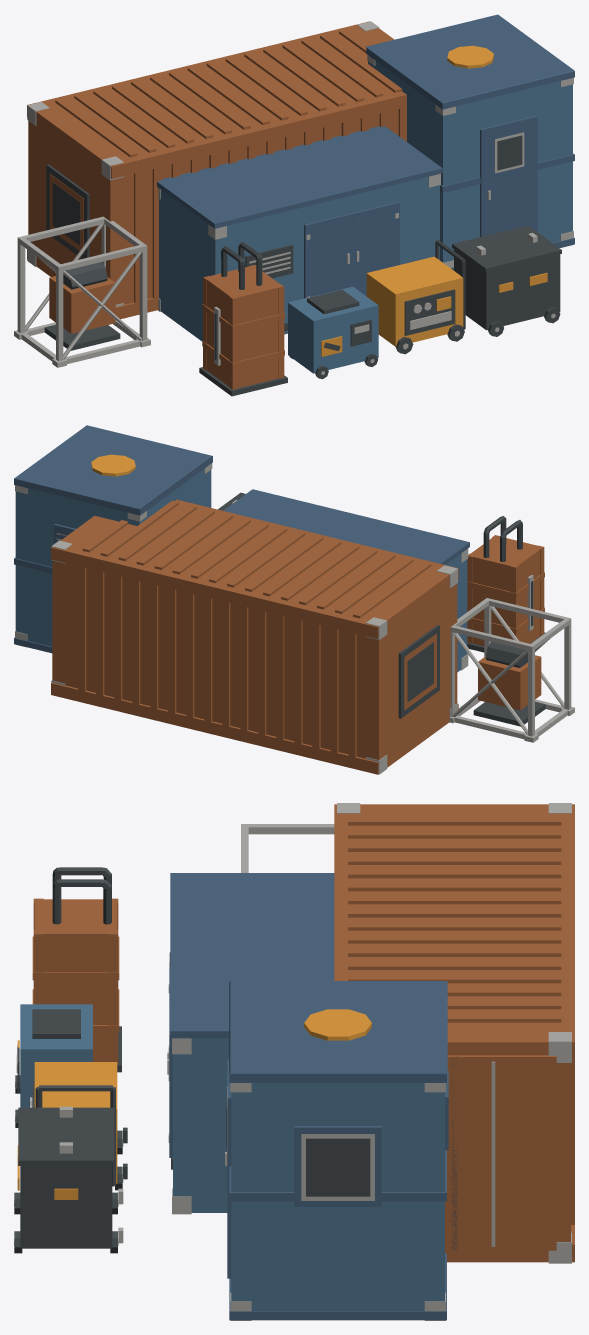
Rendered from site office_container.fbx.
3 renders of one model, top to bottom at view 1: azimuth 30°, elevation 25°; view 2: azimuth 150°, elevation 25°; view 3: azimuth 270°, elevation 25°, orthographic. The views are drawn at different scales.
Parts seen in each view (by area): view 1: Site_Office_Container_Variation; view 2: Site_Office_Container_Variation; view 3: Site_Office_Container_Variation.
Boxes of the visible parts, x1,y1,x2,y2 form: Site_Office_Container_Variation: (14,14,574,396); Site_Office_Container_Variation: (14,425,574,774); Site_Office_Container_Variation: (14,803,574,1320).
Bounding box in the file's own units: 874 × 287 × 578.
